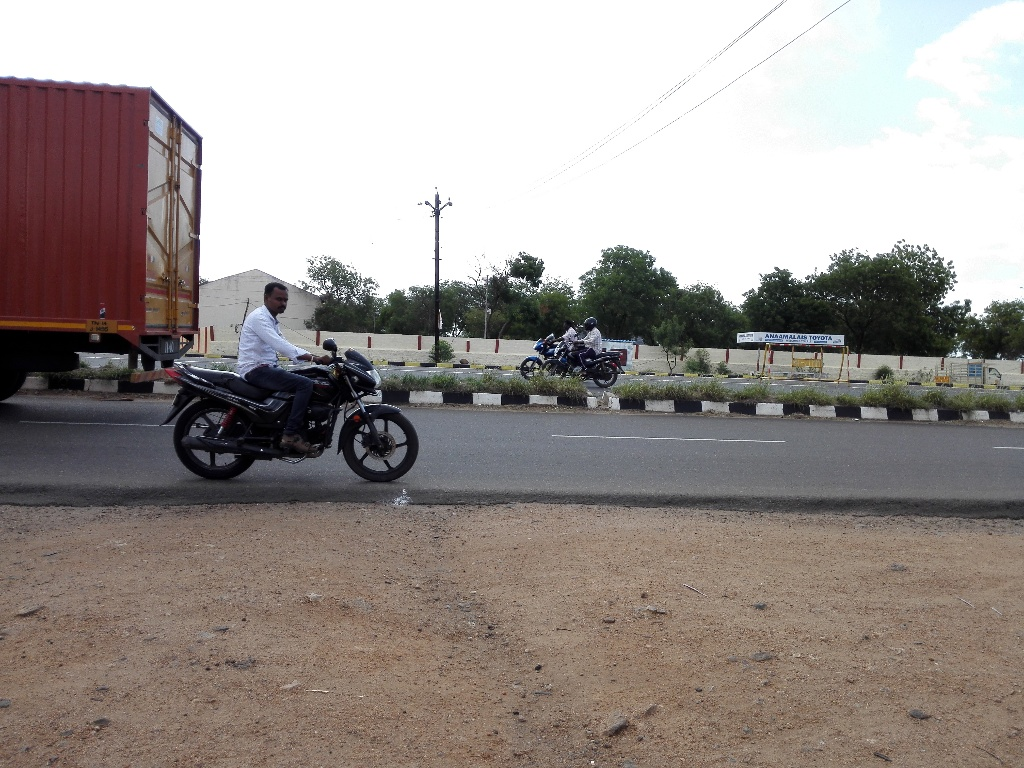biker: (153, 250, 428, 494), (509, 287, 636, 395)
helmet: (579, 310, 603, 337)
nohelmet: (257, 270, 297, 323), (557, 311, 576, 331)
